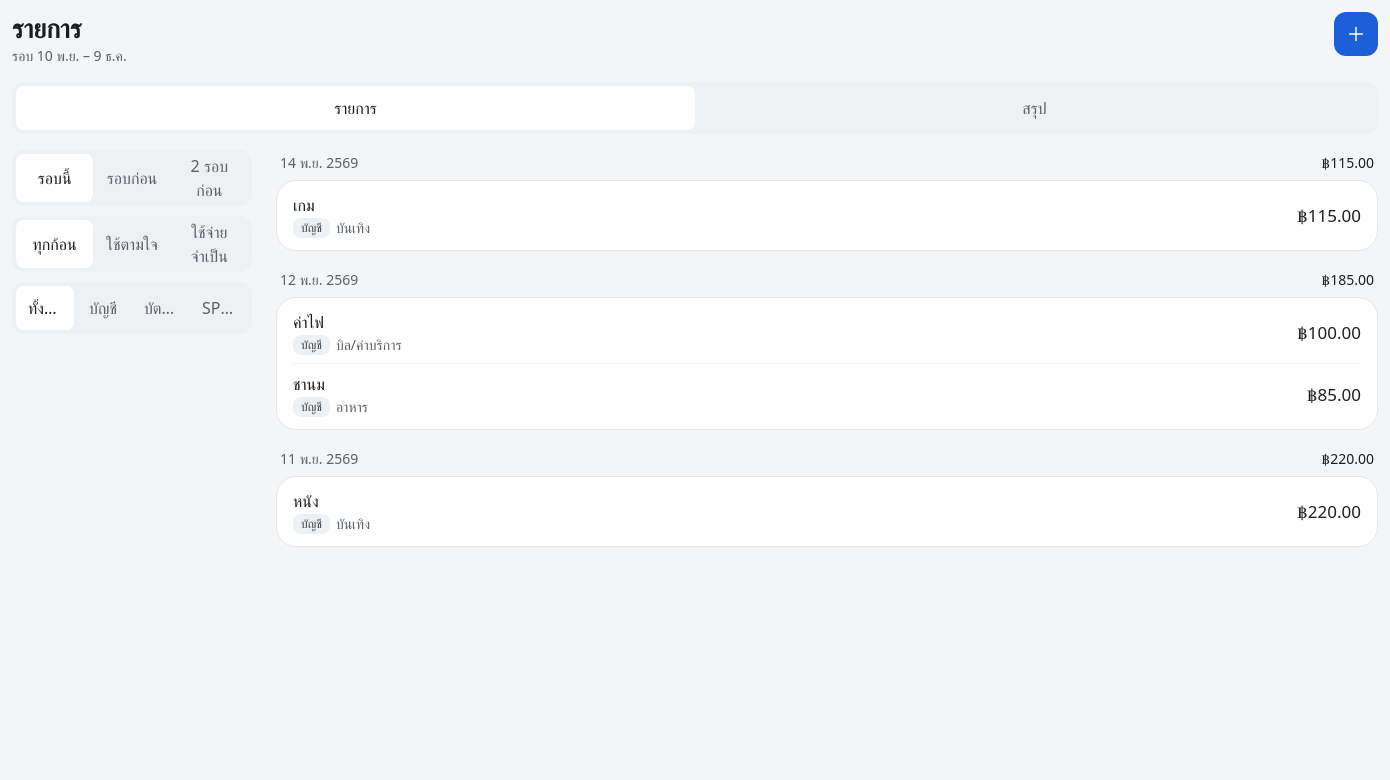
<EntriesPage> › filters transactions by budget pot on mobile (375px) and updates daily totals
Click the tab "ใช้จ่ายจำเป็น": click(209, 244) [171,220,248,268]
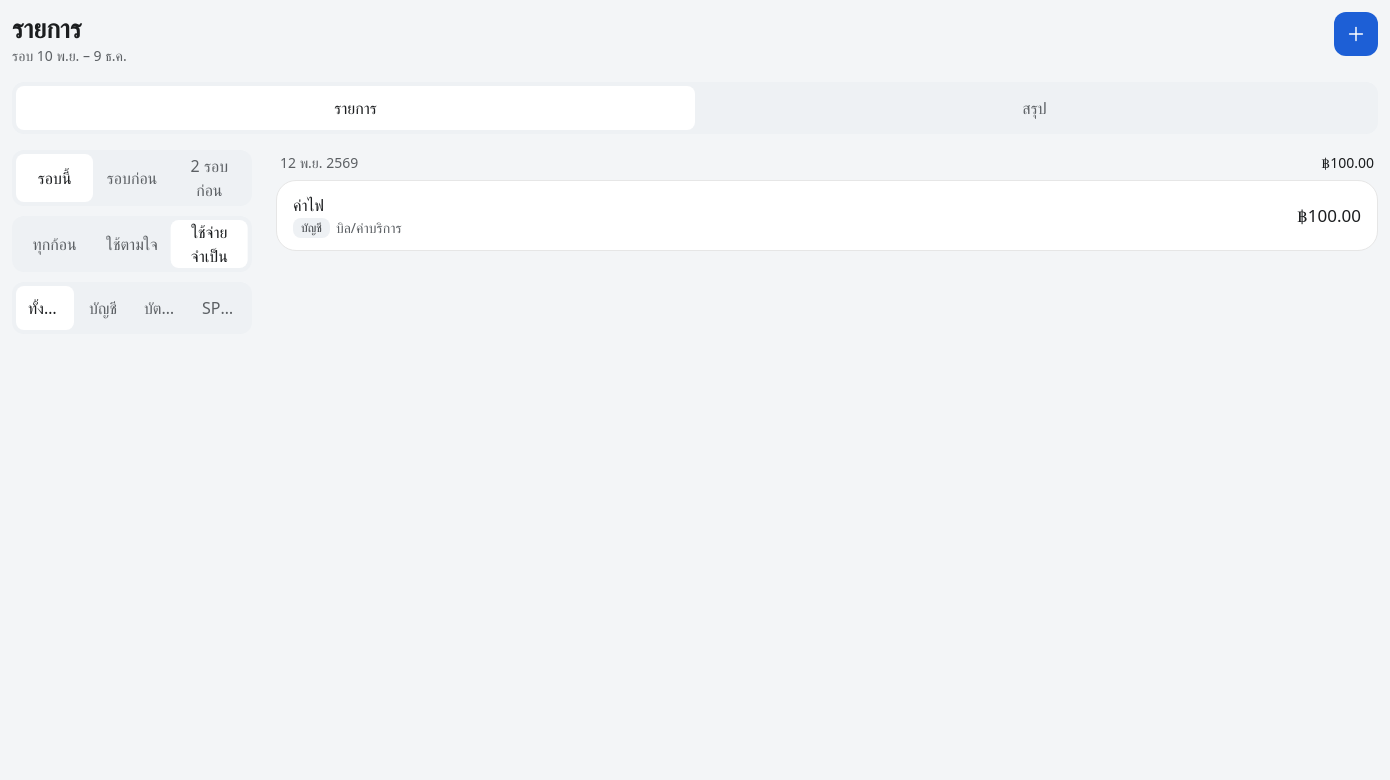
Expected: the text "ค่าไฟ" is shown, [293,194,324,216]
Expected: the button "ชานม" is gone
Expected: the element with test id "day-total-2026-11-12" reads "฿100.00", [1322,150,1374,174]
Click the tab "ทุกก้อน": click(55, 244) [16,220,93,268]
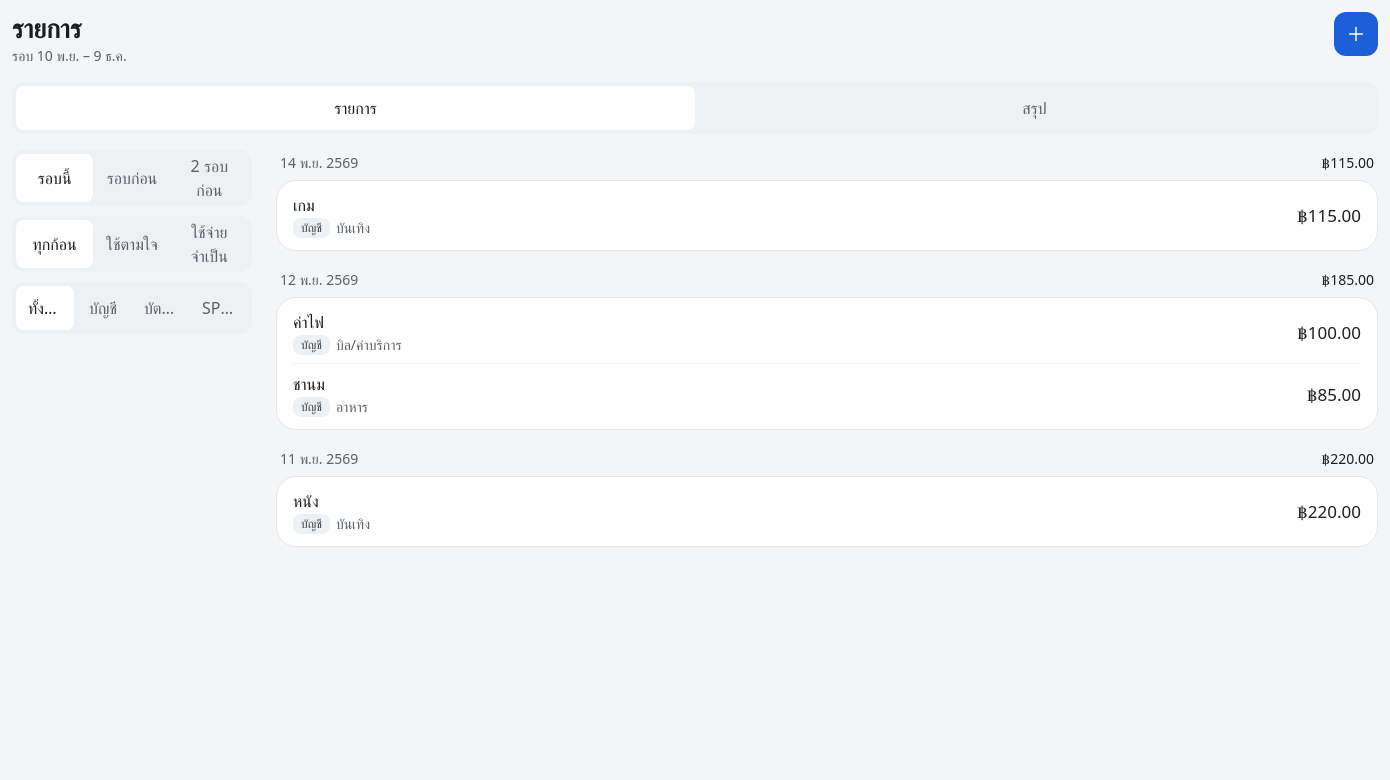
Expected: the text "ชานม" is shown, [293,373,325,395]
Expected: the element with test id "day-total-2026-11-12" reads "฿185.00", [1322,267,1374,291]
